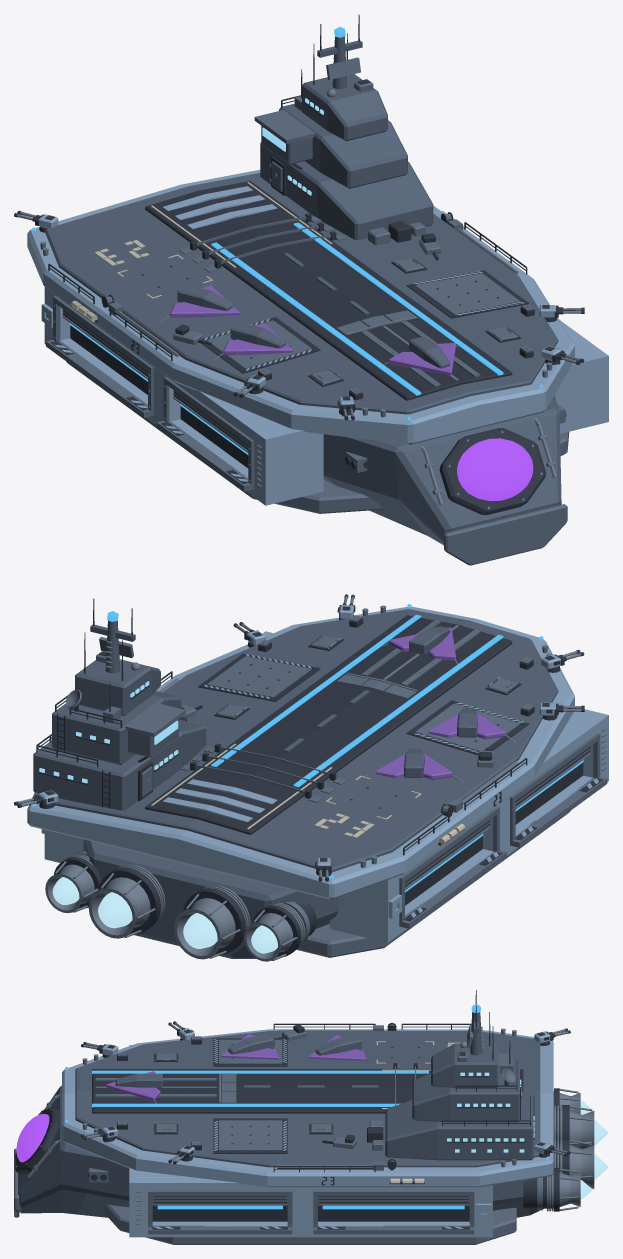
File: titan_carrier_wreck.glb
3 renders of one model, top to bottom at view 1: azimuth 30°, elevation 25°; view 2: azimuth 150°, elevation 25°; view 3: azimuth 270°, elevation 25°, orthographic. The views are drawn at different scales.
Visible parts, largest first — view 1: titan_carrier_wreck_06, titan_carrier_wreck_09, titan_carrier_wreck_14, titan_carrier_wreck_04, titan_carrier_wreck_18, titan_carrier_wreck_02, titan_carrier_wreck_05, titan_carrier_wreck_07, titan_carrier_wreck_10, titan_carrier_wreck_19, titan_carrier_wreck_12, titan_carrier_wreck_08 (+5 smaller); view 2: titan_carrier_wreck_06, titan_carrier_wreck_00, titan_carrier_wreck_12, titan_carrier_wreck_14, titan_carrier_wreck_11, titan_carrier_wreck_05, titan_carrier_wreck_07, titan_carrier_wreck_10, titan_carrier_wreck_19, titan_carrier_wreck_02, titan_carrier_wreck_17, titan_carrier_wreck_08 (+5 smaller); view 3: titan_carrier_wreck_03, titan_carrier_wreck_06, titan_carrier_wreck_08, titan_carrier_wreck_09, titan_carrier_wreck_01, titan_carrier_wreck_19, titan_carrier_wreck_07, titan_carrier_wreck_11, titan_carrier_wreck_16, titan_carrier_wreck_10, titan_carrier_wreck_14, titan_carrier_wreck_05 (+6 smaller).
Part boxes in pixels (x1,y1,x2,y2): titan_carrier_wreck_06: [237, 14, 420, 207]; titan_carrier_wreck_09: [438, 346, 584, 540]; titan_carrier_wreck_14: [155, 183, 375, 284]; titan_carrier_wreck_04: [327, 430, 549, 565]; titan_carrier_wreck_18: [260, 377, 446, 478]; titan_carrier_wreck_02: [183, 366, 338, 513]; titan_carrier_wreck_05: [46, 250, 210, 385]; titan_carrier_wreck_07: [175, 280, 354, 372]; titan_carrier_wreck_10: [285, 316, 477, 396]; titan_carrier_wreck_19: [307, 233, 488, 320]; titan_carrier_wreck_12: [14, 202, 175, 346]; titan_carrier_wreck_08: [421, 279, 603, 357]; titan_carrier_wreck_06: [32, 598, 185, 802]; titan_carrier_wreck_00: [129, 809, 305, 961]; titan_carrier_wreck_12: [242, 813, 411, 943]; titan_carrier_wreck_14: [169, 721, 369, 817]; titan_carrier_wreck_11: [14, 797, 188, 941]; titan_carrier_wreck_05: [327, 762, 491, 927]; titan_carrier_wreck_07: [328, 696, 537, 775]; titan_carrier_wreck_10: [349, 626, 514, 709]; titan_carrier_wreck_19: [204, 671, 375, 736]; titan_carrier_wreck_02: [497, 701, 608, 846]; titan_carrier_wreck_17: [432, 748, 546, 912]; titan_carrier_wreck_08: [187, 620, 368, 678]; titan_carrier_wreck_03: [243, 1115, 414, 1244]; titan_carrier_wreck_06: [406, 990, 551, 1175]; titan_carrier_wreck_08: [120, 1103, 268, 1244]; titan_carrier_wreck_09: [14, 1080, 150, 1216]; titan_carrier_wreck_01: [368, 1111, 521, 1244]; titan_carrier_wreck_19: [216, 1083, 374, 1149]; titan_carrier_wreck_07: [206, 1024, 371, 1083]; titan_carrier_wreck_11: [500, 1097, 608, 1234]; titan_carrier_wreck_16: [77, 1152, 243, 1244]; titan_carrier_wreck_10: [85, 1050, 247, 1113]; titan_carrier_wreck_14: [326, 1060, 430, 1130]; titan_carrier_wreck_05: [332, 1022, 468, 1061].
Size of the model in its own units: 5.27 by 4.35 by 8.83.
